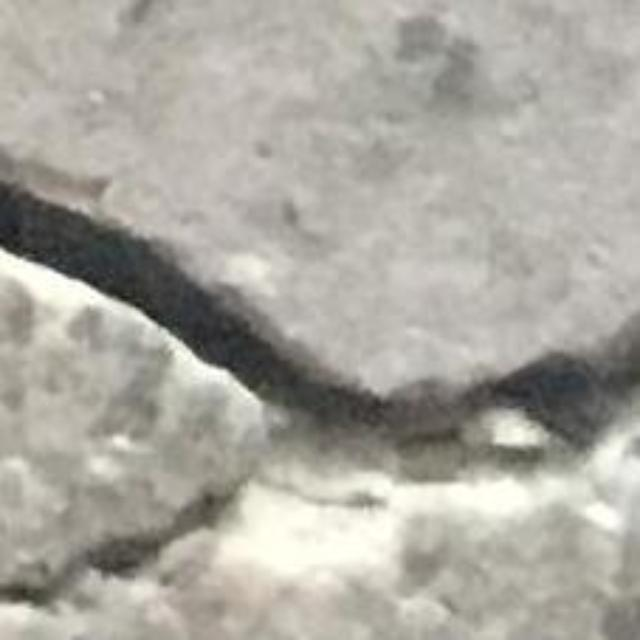crack: (0, 181, 639, 490)
